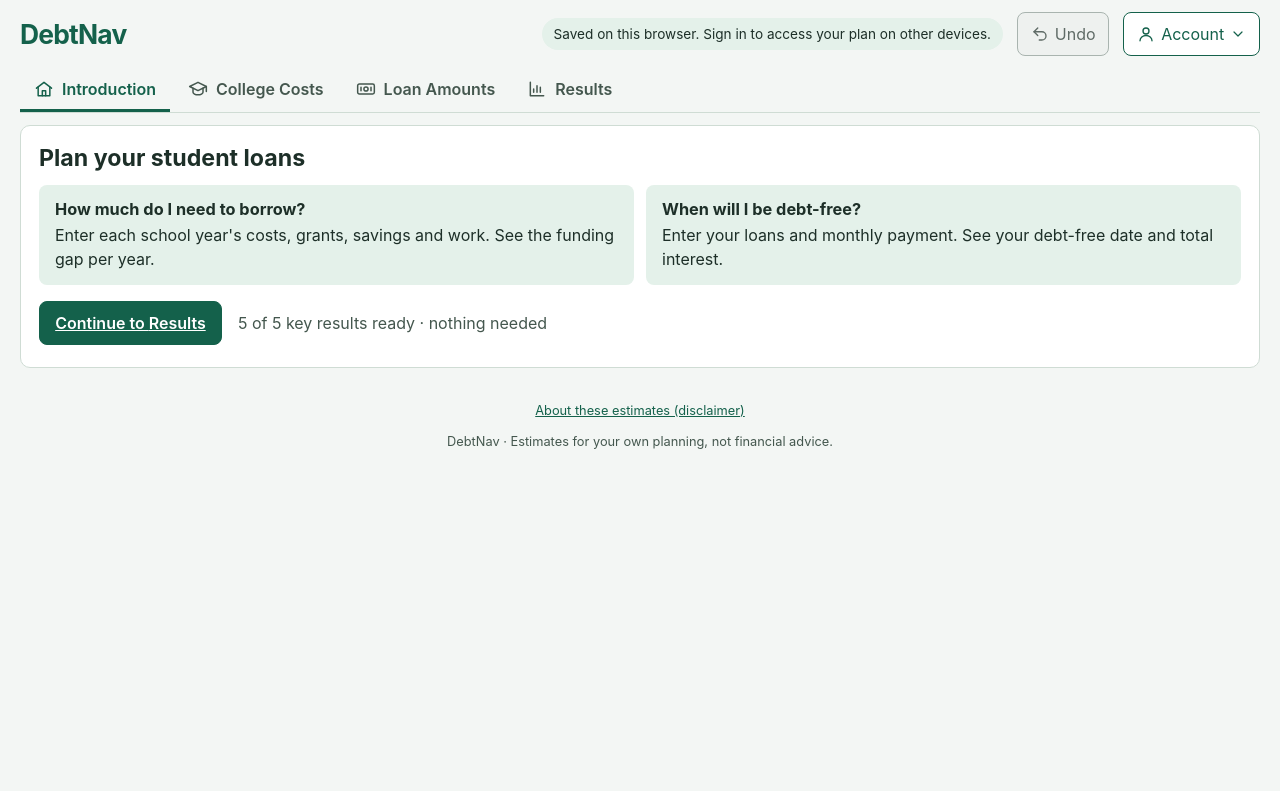
Scenario: payment timing (US-507) › sets when voluntary payments start, as months after graduation or a date
Click the link "Results" at [570, 88], box left=527, top=78, right=612, bottom=98
(page scrolled)
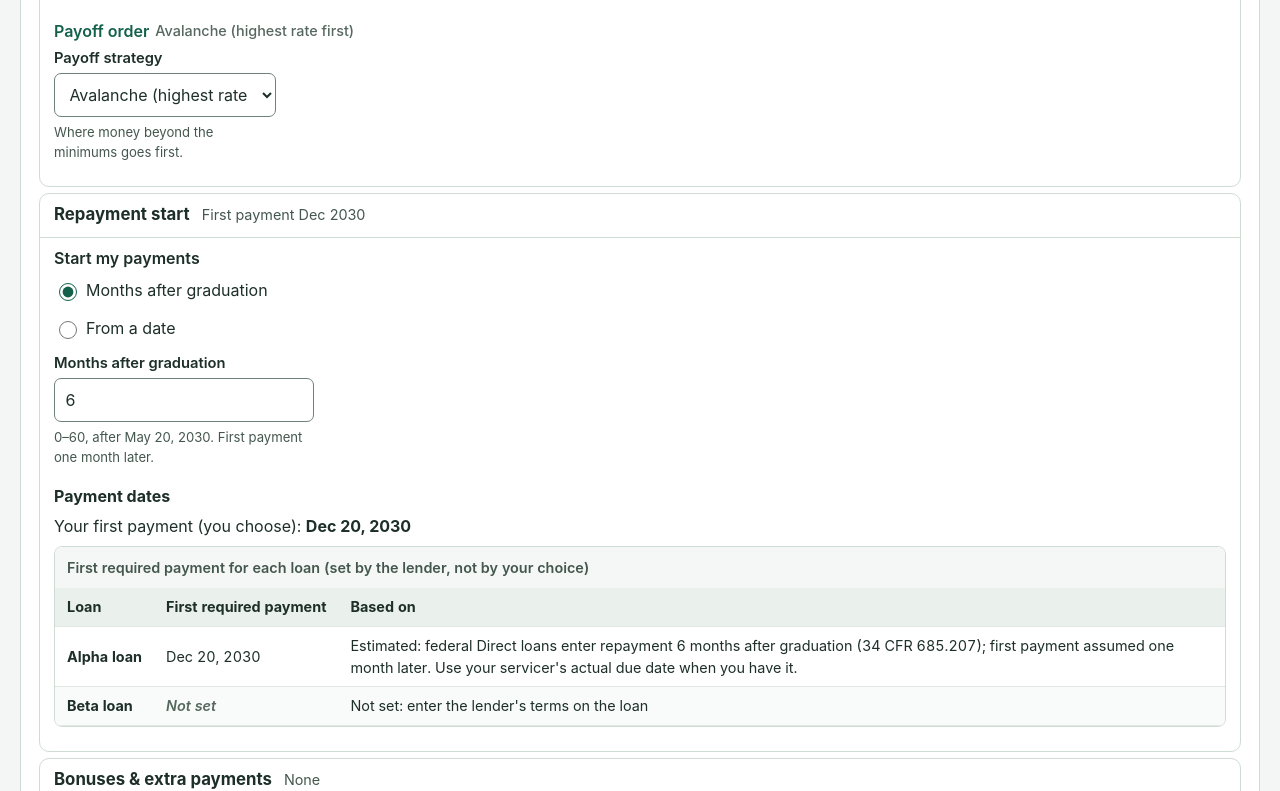
Now the field with id "repayment" holds "6"
Clear the field with id "repayment" at [184, 400], box left=54, top=378, right=314, bottom=422
(page scrolled)
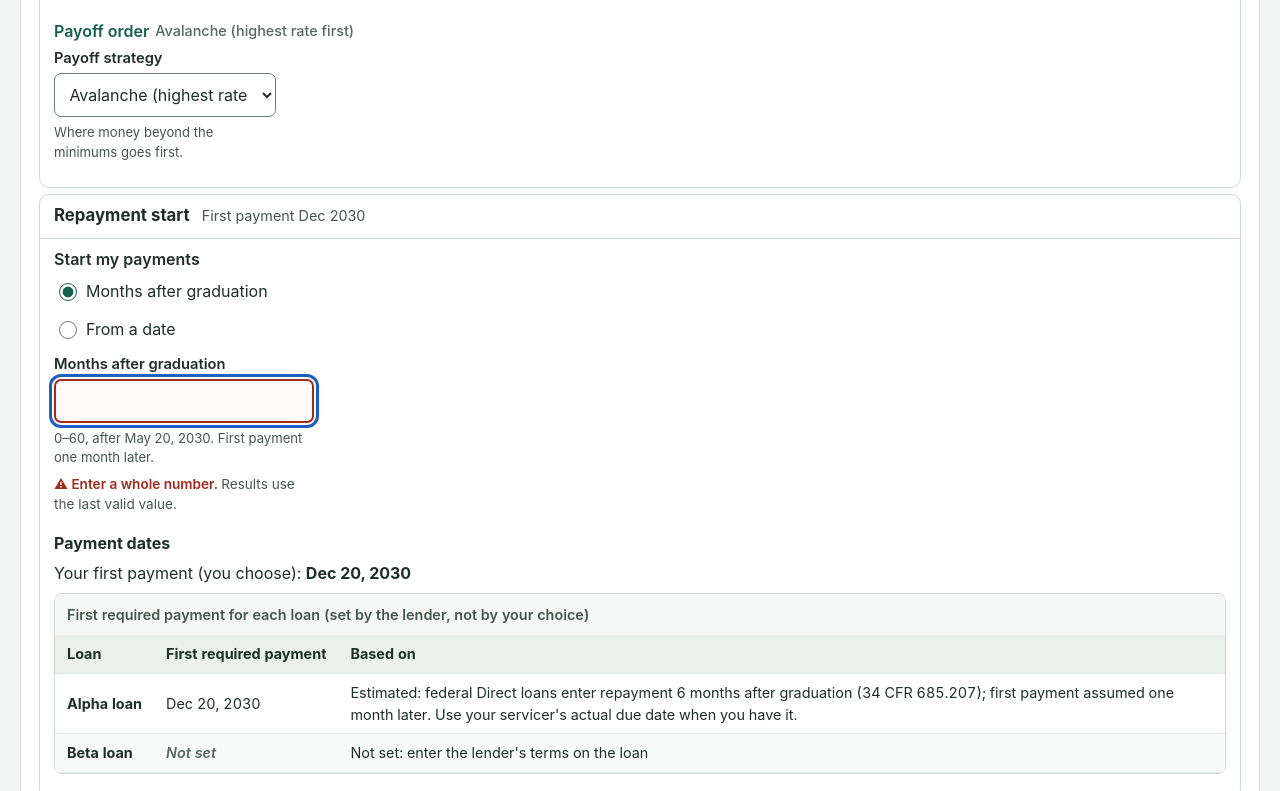
Type "3" into the field with id "repayment" at [184, 401], box left=54, top=379, right=314, bottom=423
(page scrolled)
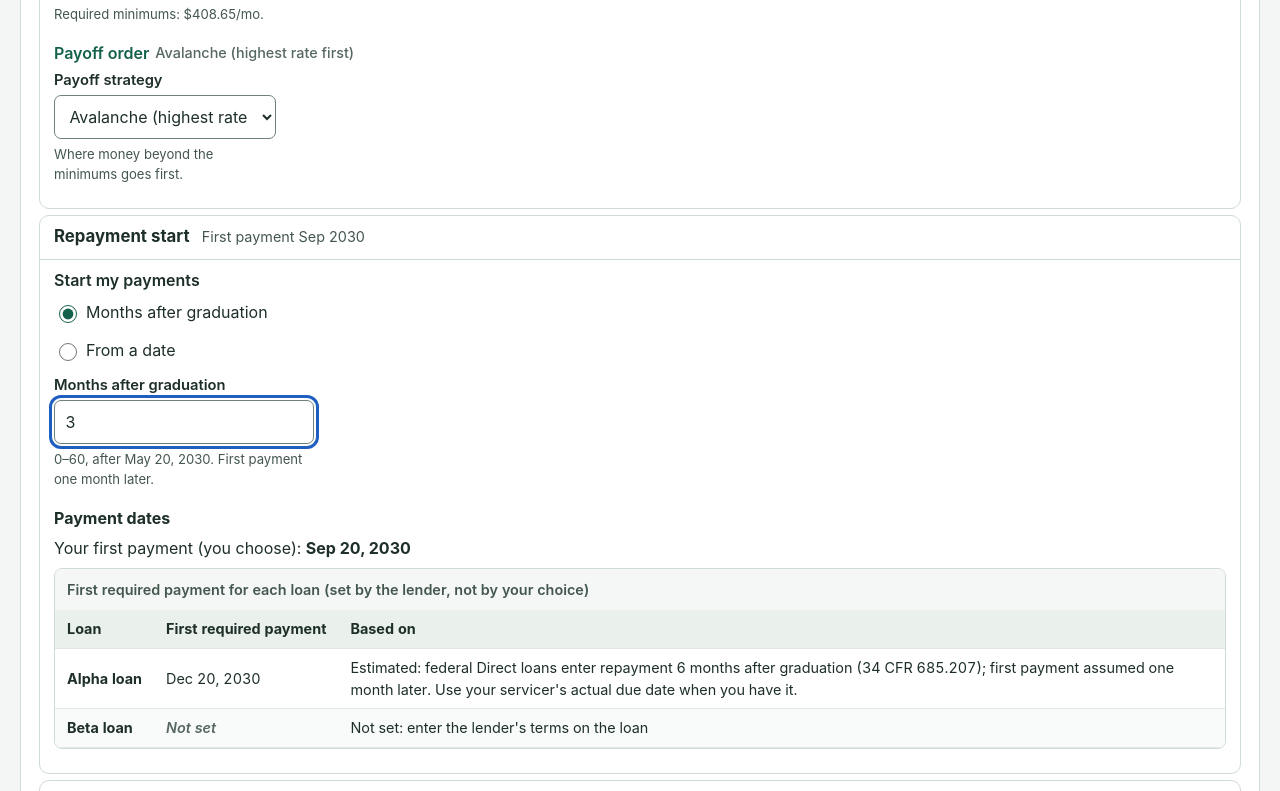
Now the text with test id "first-voluntary-payment" reads "Sep 20, 2030", box left=306, top=538, right=411, bottom=558
Click the radio button labelled "From a date" at [68, 352], box left=59, top=343, right=77, bottom=361
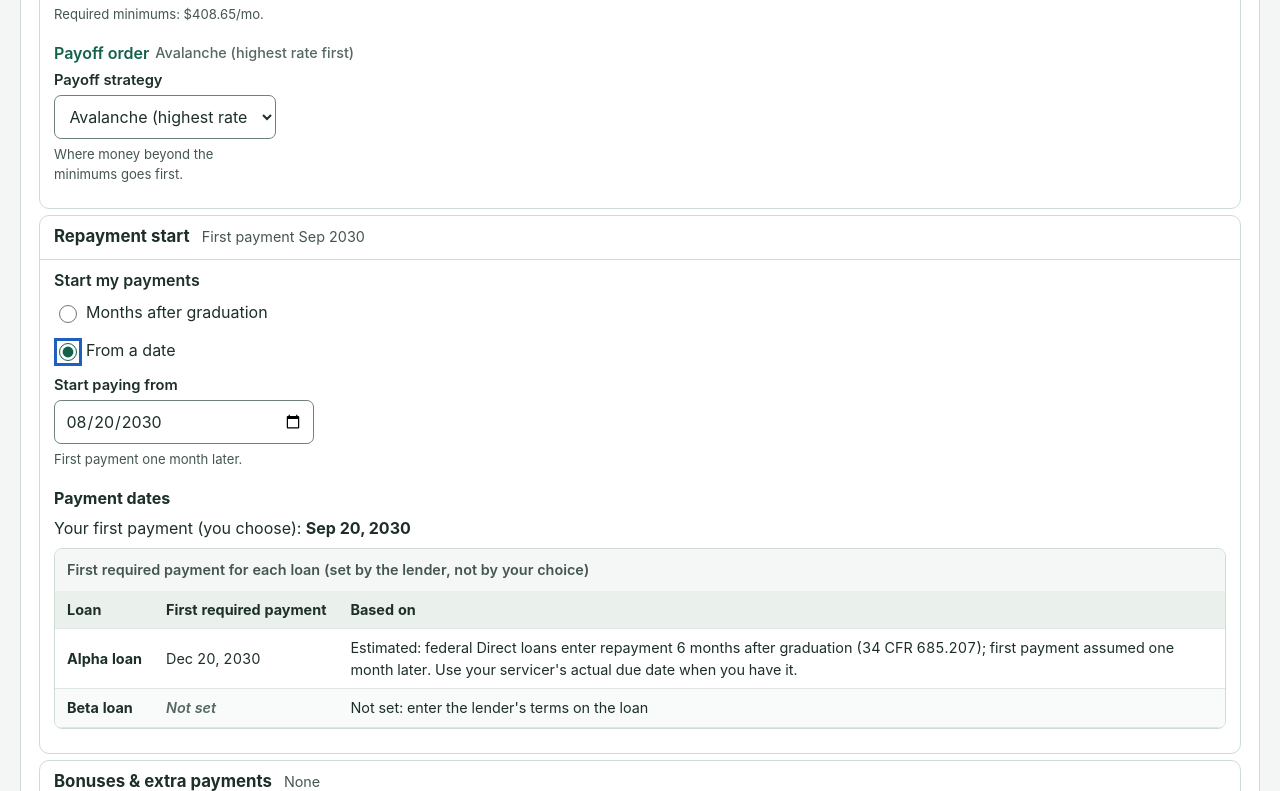
Now the date field with id "repayment" holds "2030-08-20", box left=54, top=400, right=314, bottom=444
